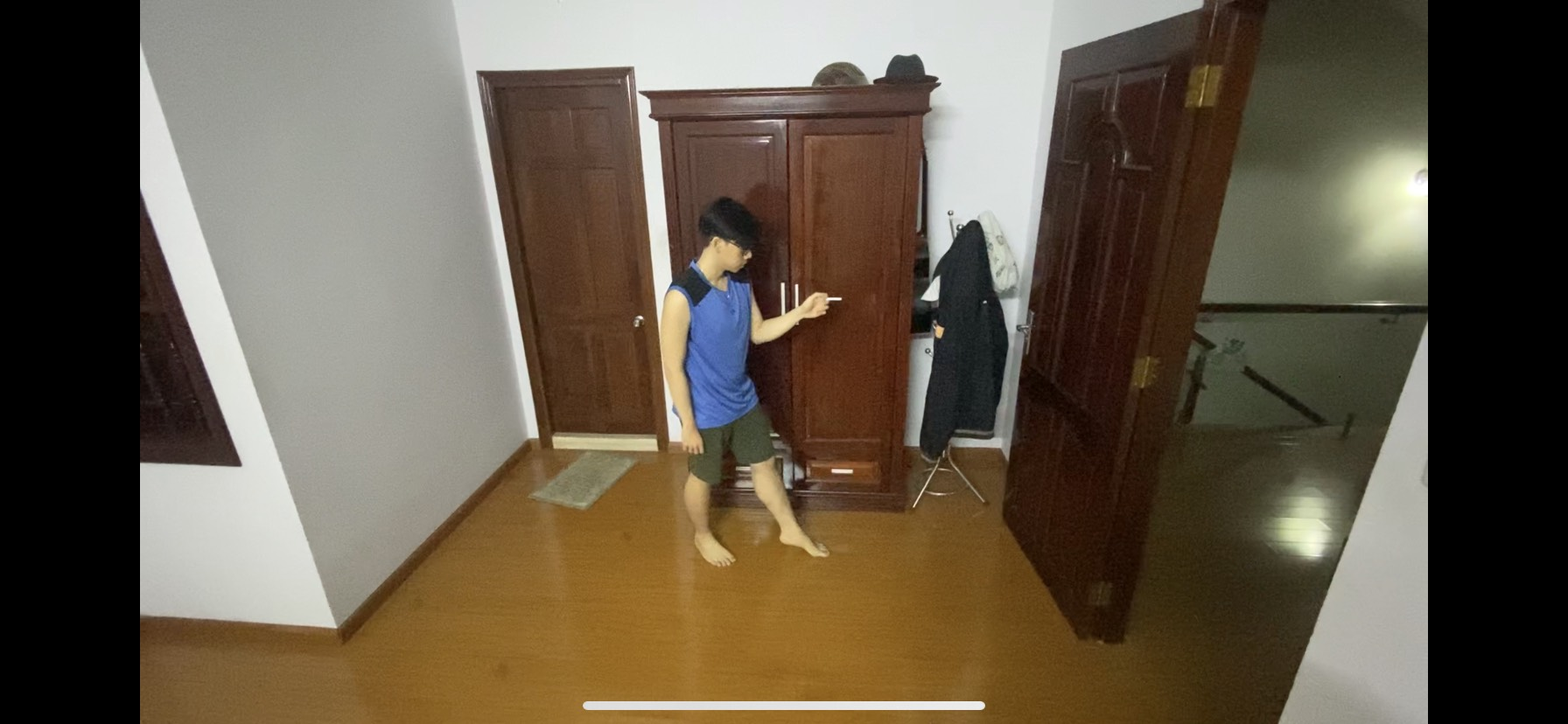cigarette: (827, 292, 844, 306)
person: (657, 196, 843, 571)
